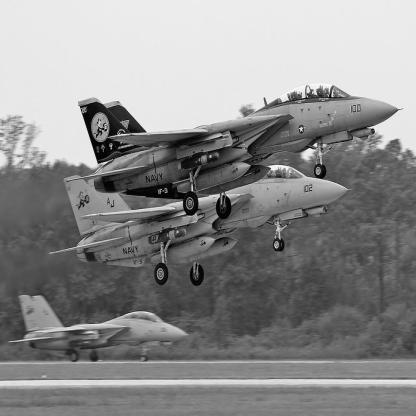F14: (67, 84, 404, 221), (49, 166, 353, 288), (7, 295, 190, 363)
